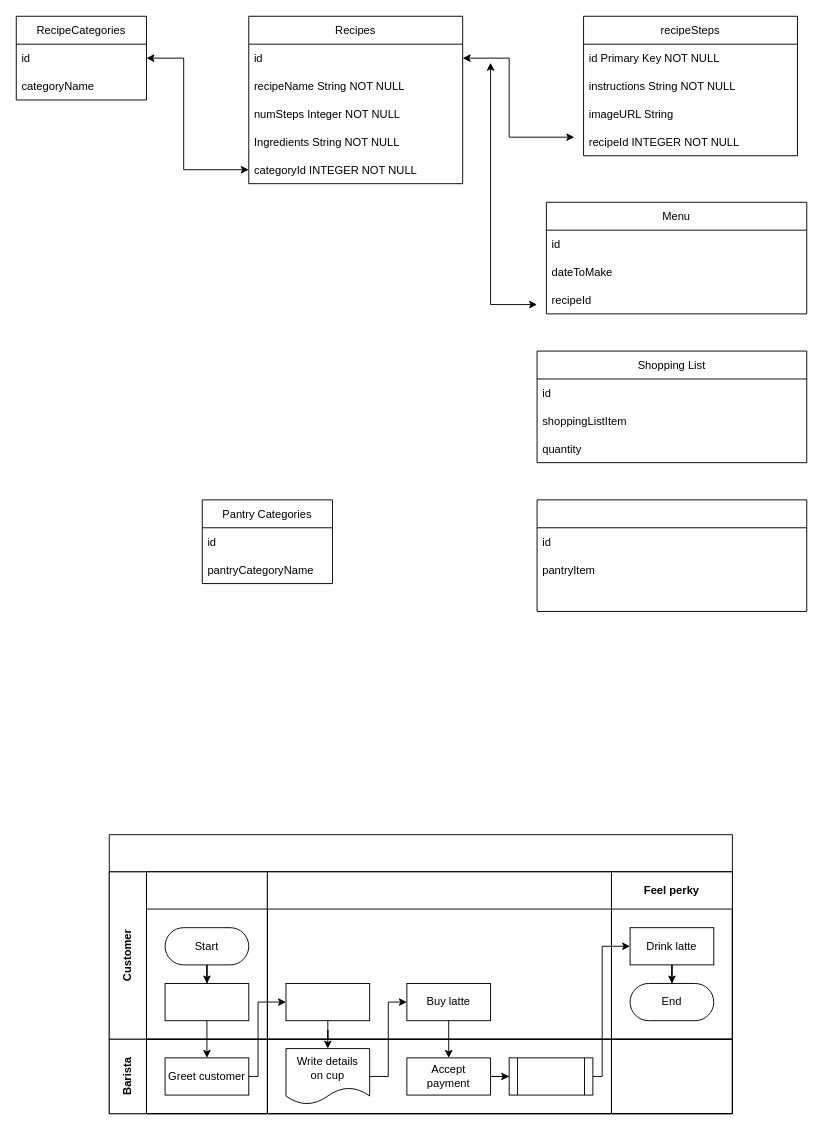
The diagram is 823 pixels wide and 1130 high, and some of its shapes have lost their labels. Here are the shapes that lost their labels. From the top down, the box of each, then its label:
(536, 499, 807, 611): Pantry Stock List
(146, 871, 267, 1039): Feel tired
(108, 834, 732, 1114): PERK UP WITH A LATTE
(266, 871, 611, 1039): Make transaction
(164, 983, 249, 1021): Find barista
(285, 983, 370, 1021): Request latte
(508, 1057, 593, 1095): Make latte
